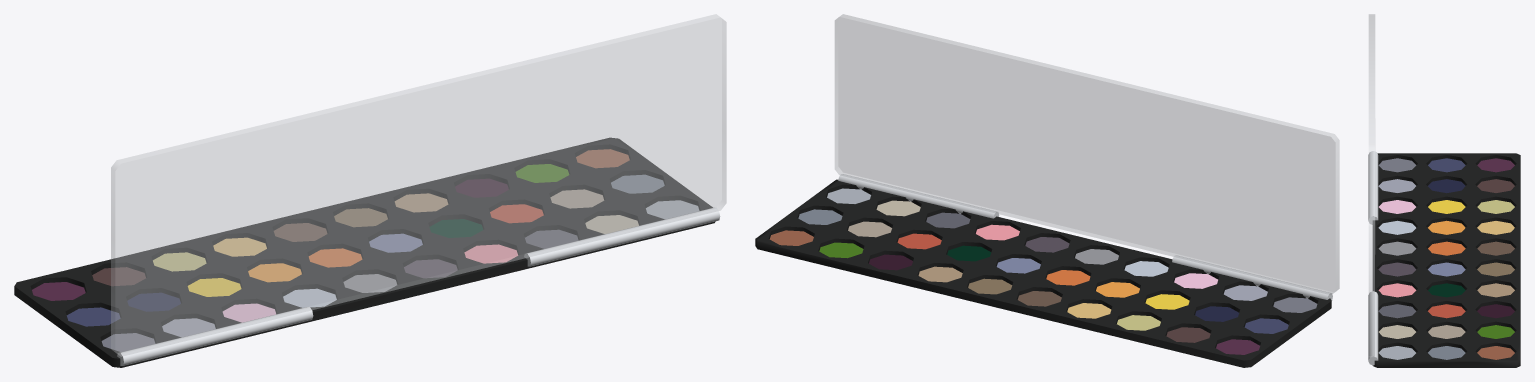
Rendered from make_up_pallete_open_006.fbx.
3 renders of one model, left to right at view 1: azimuth 30°, elevation 25°; view 2: azimuth 150°, elevation 25°; view 3: azimuth 270°, elevation 25°, orthographic. The views are drawn at different scales.
Visible parts, largest first — view 1: make up_pallete_open.006; view 2: make up_pallete_open.006; view 3: make up_pallete_open.006.
Part boxes in pixels (bbox=[...]): make up_pallete_open.006: bbox=[14, 14, 726, 367]; make up_pallete_open.006: bbox=[755, 14, 1339, 367]; make up_pallete_open.006: bbox=[1368, 14, 1520, 367].
Size of the model in its own units: 4643 by 1505 by 1421.
2 materials, 2 textured.
